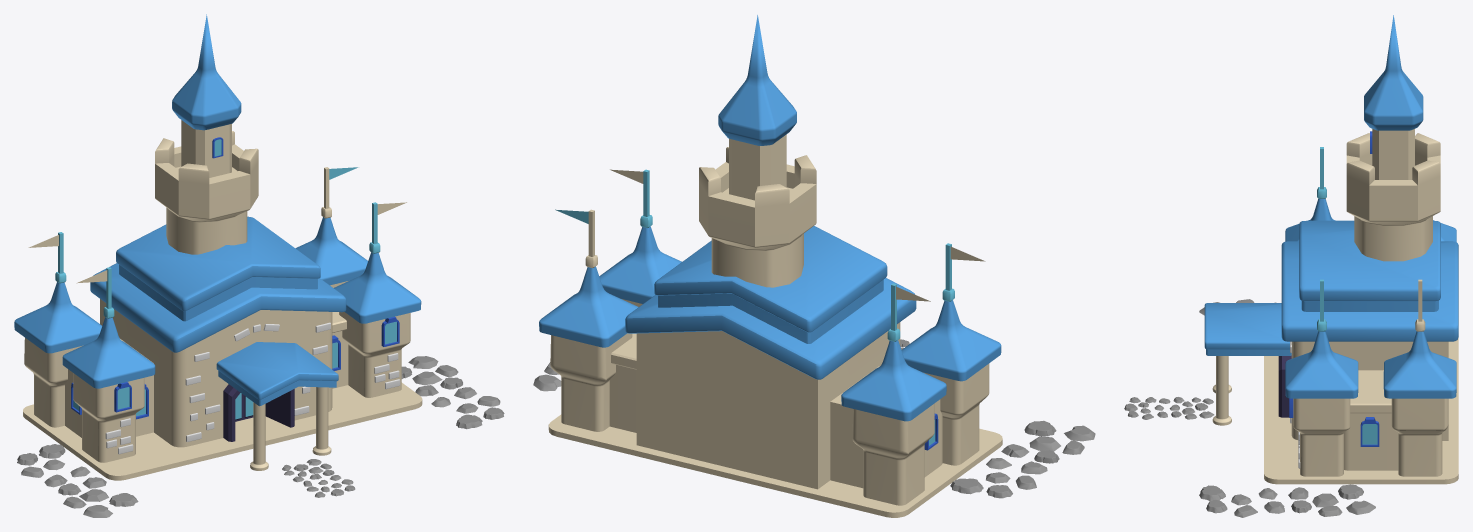
Rendered from Town hall.fbx.
3 views of the same model, side by side, from view 1: azimuth 30°, elevation 25°; view 2: azimuth 150°, elevation 25°; view 3: azimuth 270°, elevation 25° (orthographic). The views are drawn at different scales.
Visible parts, largest first — view 1: Townhall, stone_path2, stone_path1, stone_path; view 2: Townhall, stone_path2; view 3: Townhall, stone_path1, stone_path.
Boxes of the visible parts, x1=… form: Townhall: x1=14, y1=14, x2=422, y2=480; stone_path2: x1=17, y1=444, x2=138, y2=517; stone_path1: x1=401, y1=356, x2=504, y2=429; stone_path: x1=282, y1=459, x2=355, y2=497; Townhall: x1=539, y1=15, x2=1002, y2=517; stone_path2: x1=950, y1=420, x2=1095, y2=498; Townhall: x1=1204, y1=15, x2=1458, y2=484; stone_path1: x1=1199, y1=484, x2=1375, y2=517; stone_path: x1=1124, y1=397, x2=1214, y2=419.
Bounding box in the file's own units: 389 × 330 × 254.
